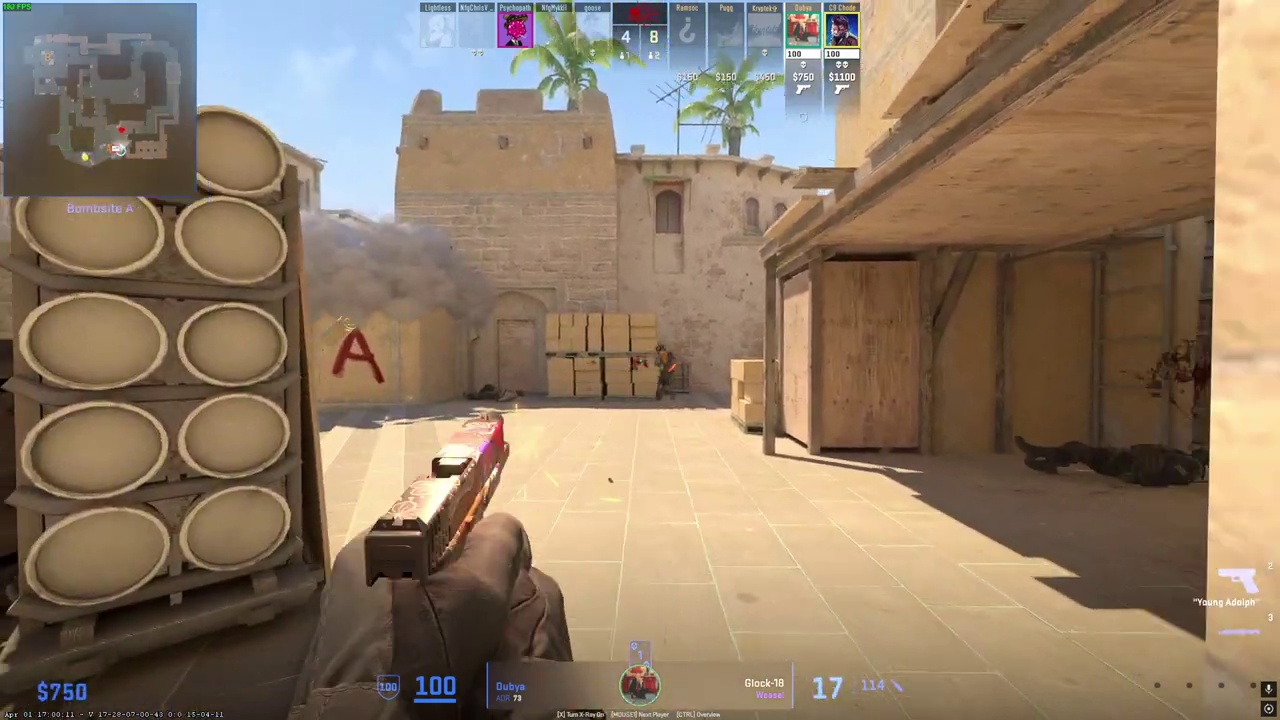CT: (654, 344, 677, 400)
